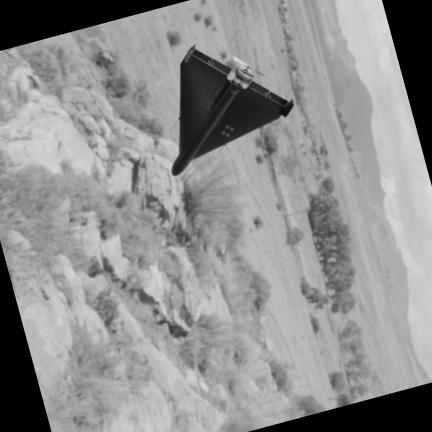Shahed: (171, 45, 292, 174)
